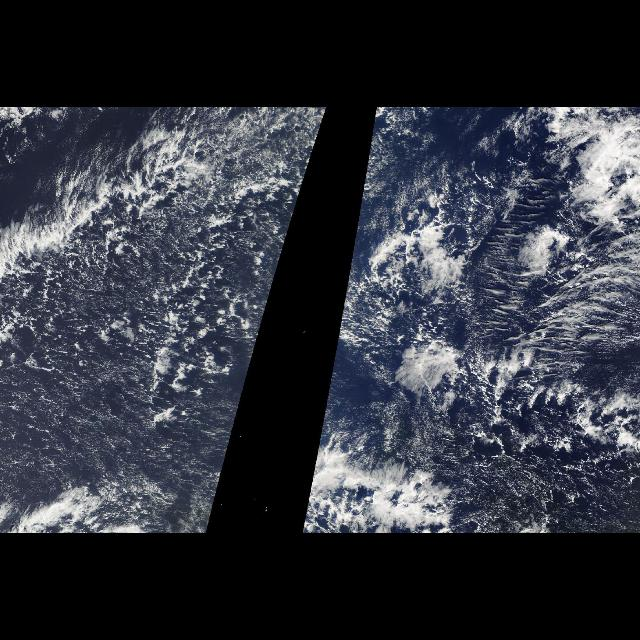Gravel: (3, 181, 306, 383)
Sugar: (1, 373, 251, 533), (302, 373, 334, 533)
